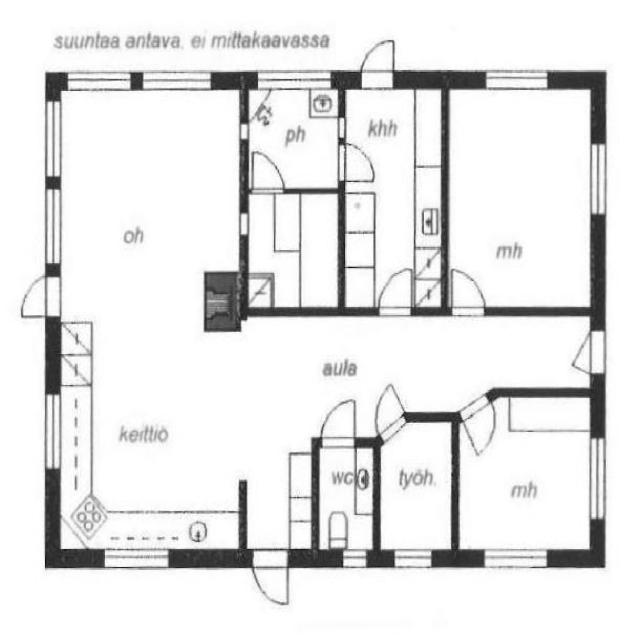door: (248, 546, 295, 613), (316, 396, 362, 454), (460, 395, 500, 460), (446, 263, 490, 319), (355, 37, 400, 90), (16, 273, 58, 324), (375, 265, 415, 318), (374, 381, 408, 440), (577, 323, 611, 380), (336, 140, 376, 184), (248, 147, 284, 194)
window: (38, 102, 68, 279), (96, 542, 177, 578), (585, 427, 613, 531), (39, 382, 68, 481), (478, 62, 556, 98), (475, 540, 555, 574), (41, 91, 67, 189), (586, 132, 612, 228), (136, 66, 218, 95), (62, 68, 136, 94), (251, 69, 337, 91), (384, 545, 440, 573), (584, 323, 611, 381), (238, 208, 251, 242)
zone: (48, 77, 242, 557), (443, 79, 602, 313), (341, 77, 448, 316), (457, 390, 600, 558), (245, 190, 342, 314), (377, 414, 456, 560), (244, 82, 342, 190), (316, 442, 378, 559)
